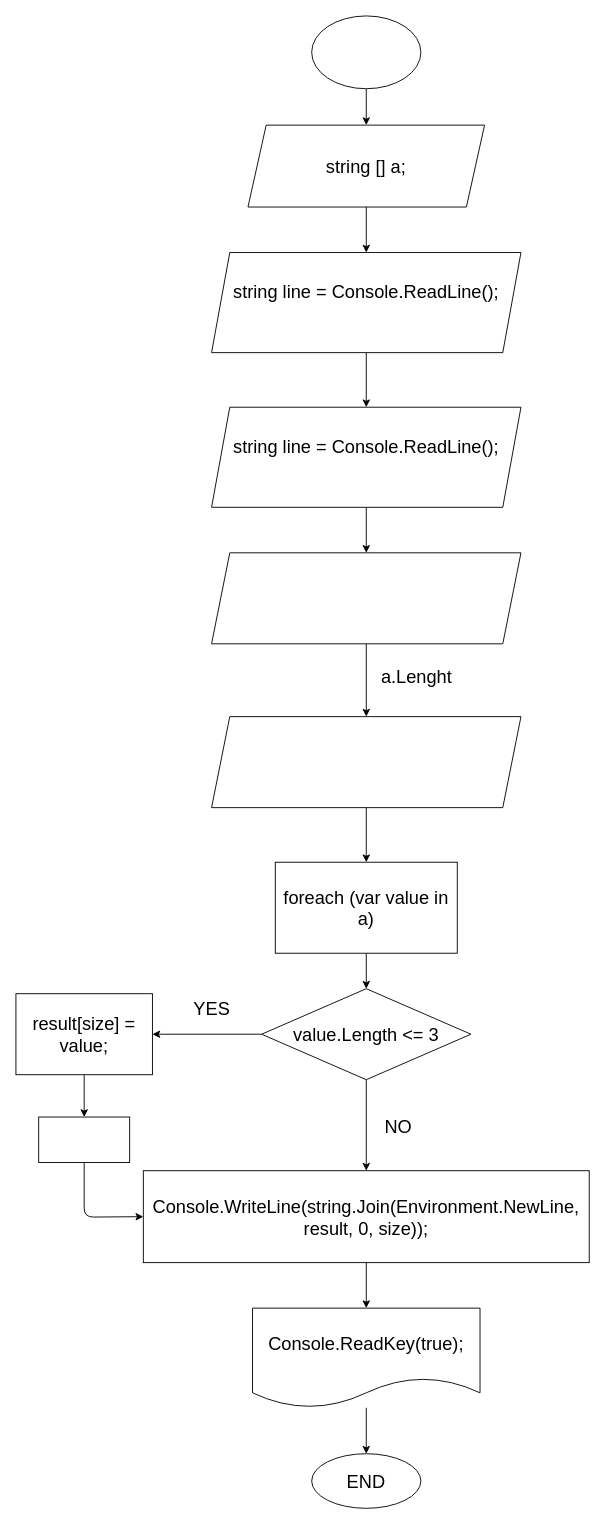
Image size: 605x1524. Some labels were removed from this diagram. Each missing label, with the centre of its shape:
"size++;" belongs at (x=84, y=1139).
"START" belongs at (x=366, y=52).
"var result = new string;" belongs at (x=366, y=598).
"var size= 0;" belongs at (x=366, y=762).
